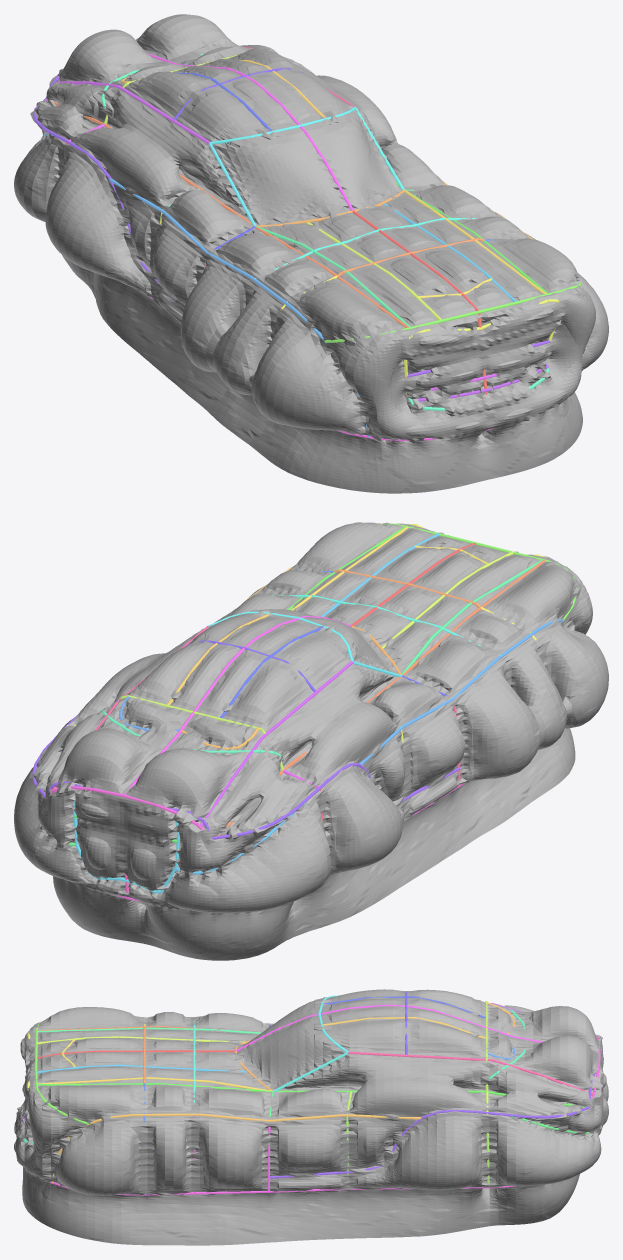
File: t2f_car_97.gltf
The picture shows the model from 3 angles, top to bottom: view 1: azimuth 30°, elevation 25°; view 2: azimuth 150°, elevation 25°; view 3: azimuth 270°, elevation 25°; orthographic projection. The views are drawn at different scales.
Size of the model in its own units: 0.4793 by 0.3099 by 0.9181.
